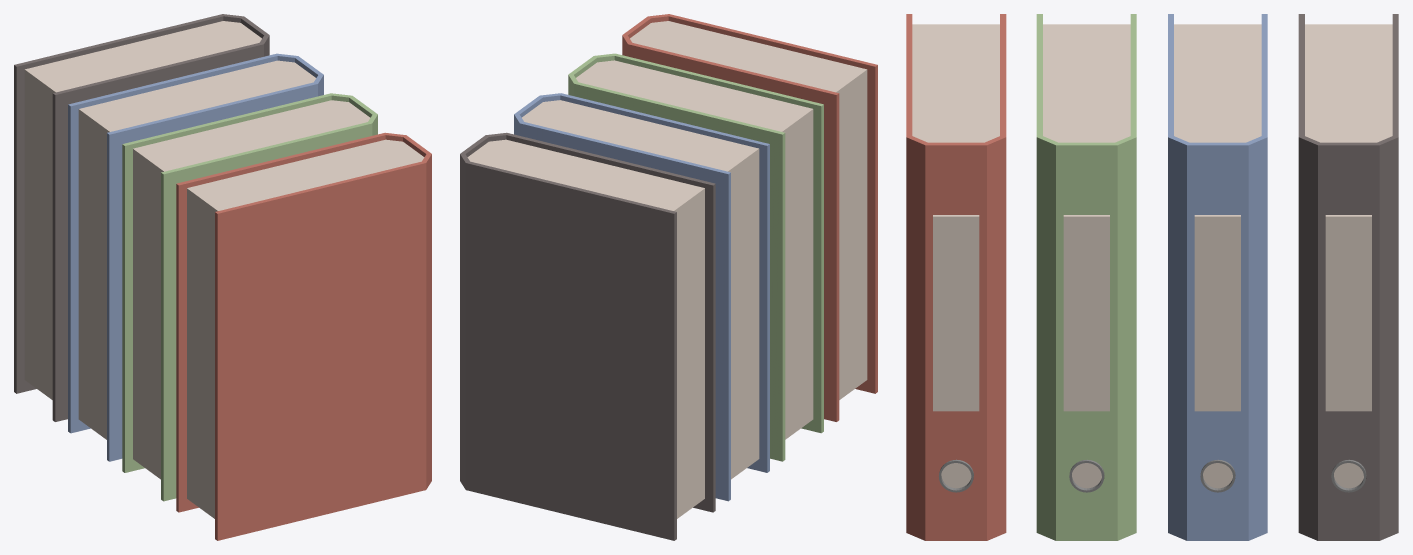
File: PaperBinder.fbx
3 views of the same model, side by side, from view 1: azimuth 30°, elevation 25°; view 2: azimuth 150°, elevation 25°; view 3: azimuth 270°, elevation 25° (orthographic). The views are drawn at different scales.
Parts seen in each view (by area): view 1: Binder1, Binder3, Binder2, Binder4; view 2: Binder4, Binder3, Binder2, Binder1; view 3: Binder1, Binder2, Binder4, Binder3.
Part boxes in pixels (box(x1,y1,x2,y2)): Binder1: box(176, 132, 431, 540); Binder3: box(68, 53, 323, 461); Binder2: box(122, 93, 377, 501); Binder4: box(14, 14, 269, 421); Binder4: box(460, 132, 715, 540); Binder3: box(514, 93, 769, 501); Binder2: box(568, 53, 823, 461); Binder1: box(622, 14, 877, 421); Binder1: box(906, 14, 1006, 540); Binder2: box(1036, 14, 1136, 540); Binder4: box(1298, 14, 1398, 540); Binder3: box(1168, 14, 1267, 540).
Size of the model in its own units: 203 by 281 by 317.
